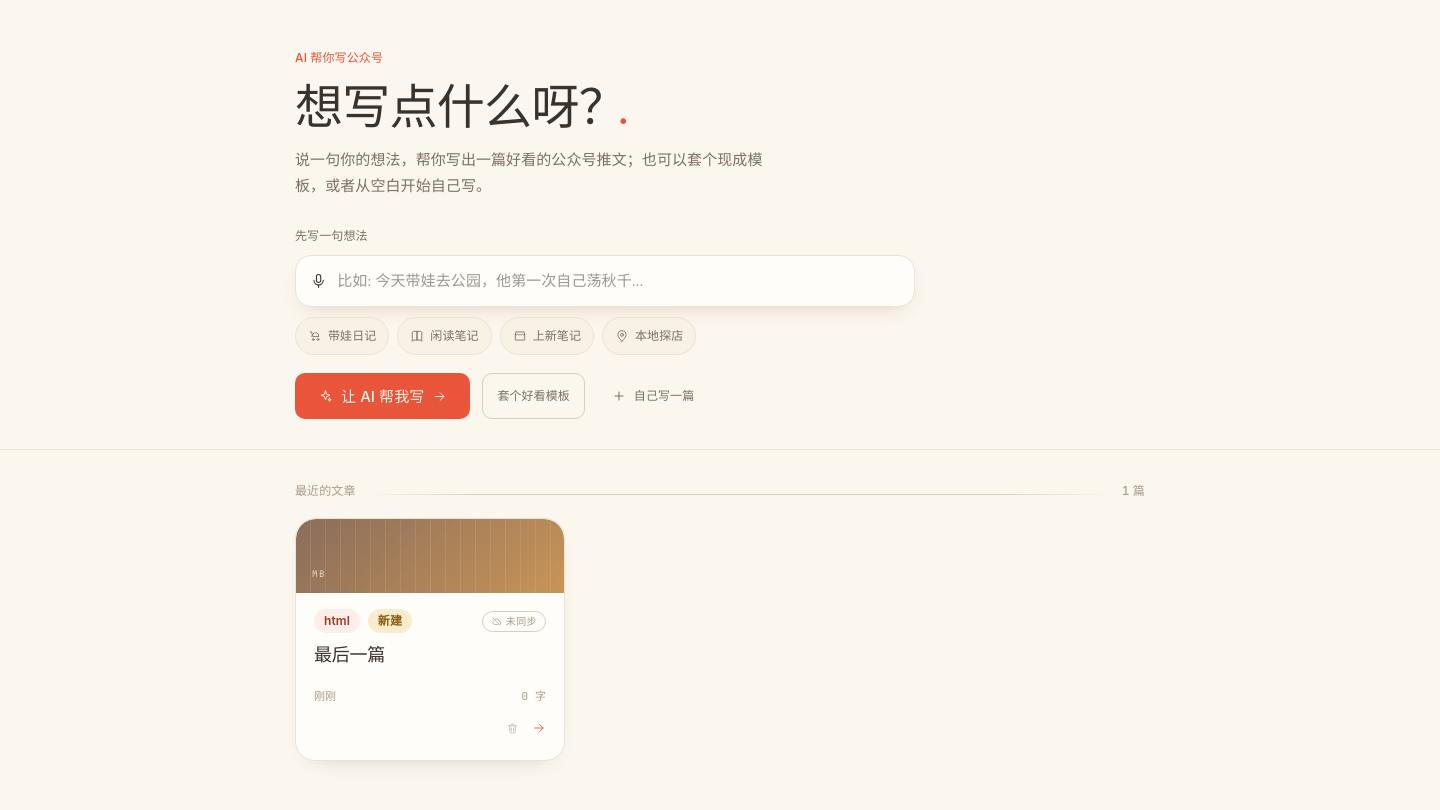
Scenario: HomeSurface · 删光文章回模板墙,不弹路由 › 删掉最后一篇文章后渲染模板墙,且不触发 go(导航)
Expected: the element with test id "article-grid" is shown, x1=295 y1=518 x2=565 y2=761
Click the button named "删除文章 最后一篇": click(512, 728) x1=499 y1=715 x2=526 y2=742
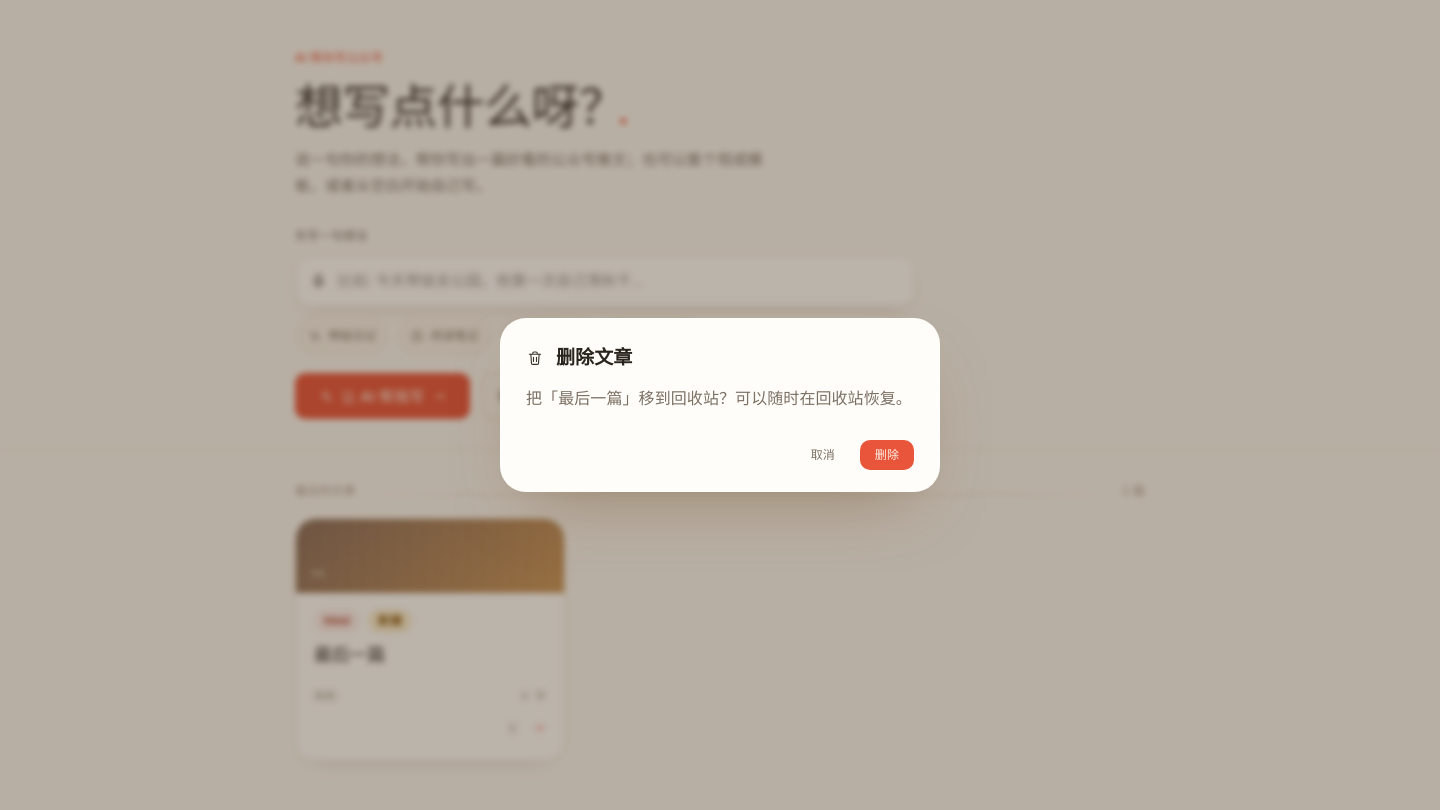
Click the button "删除": click(887, 455) x1=860 y1=440 x2=914 y2=470
(page scrolled)
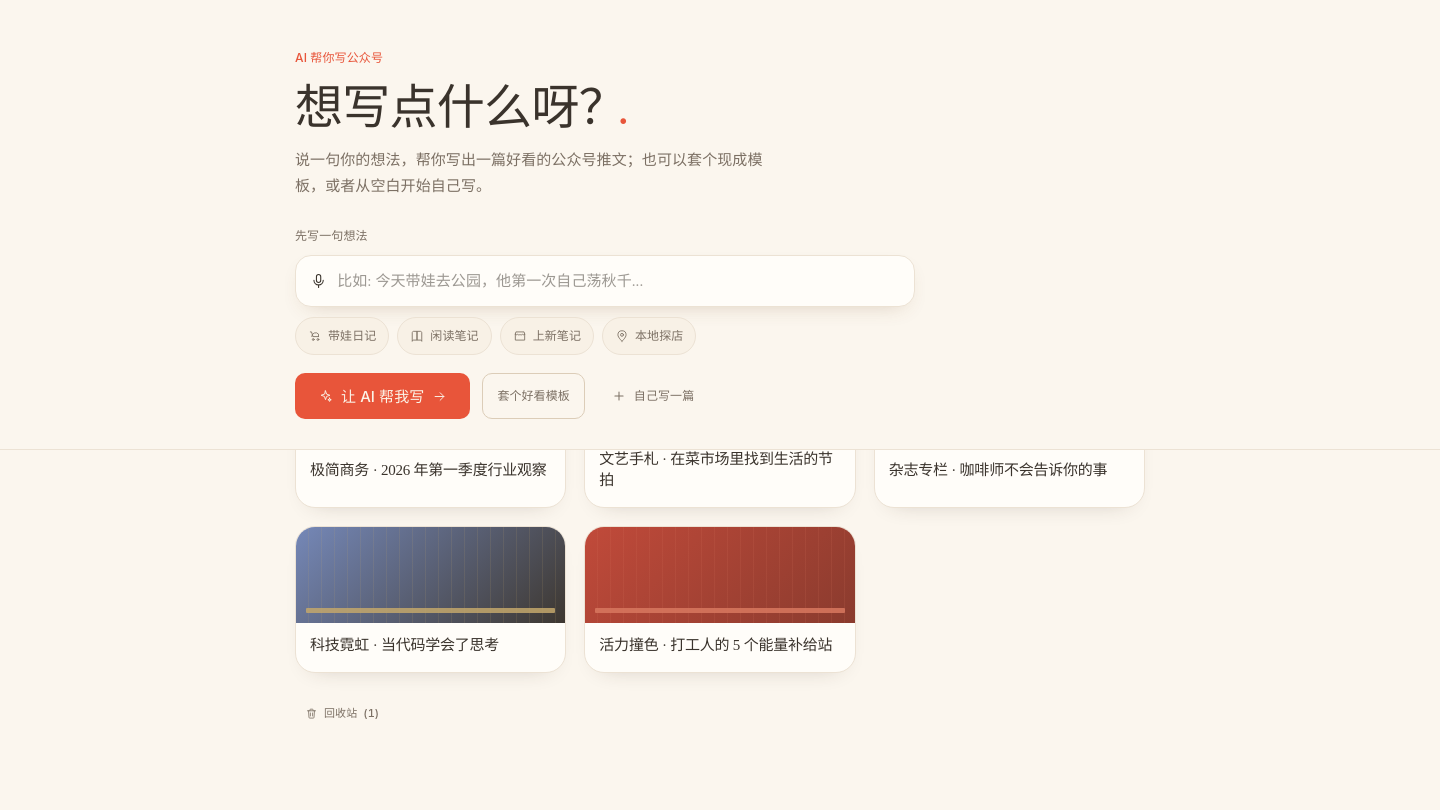
Expected: the element with test id "home-template-wall" is shown, x1=295 y1=304 x2=1145 y2=673
Expected: the element with test id "article-grid" is gone
